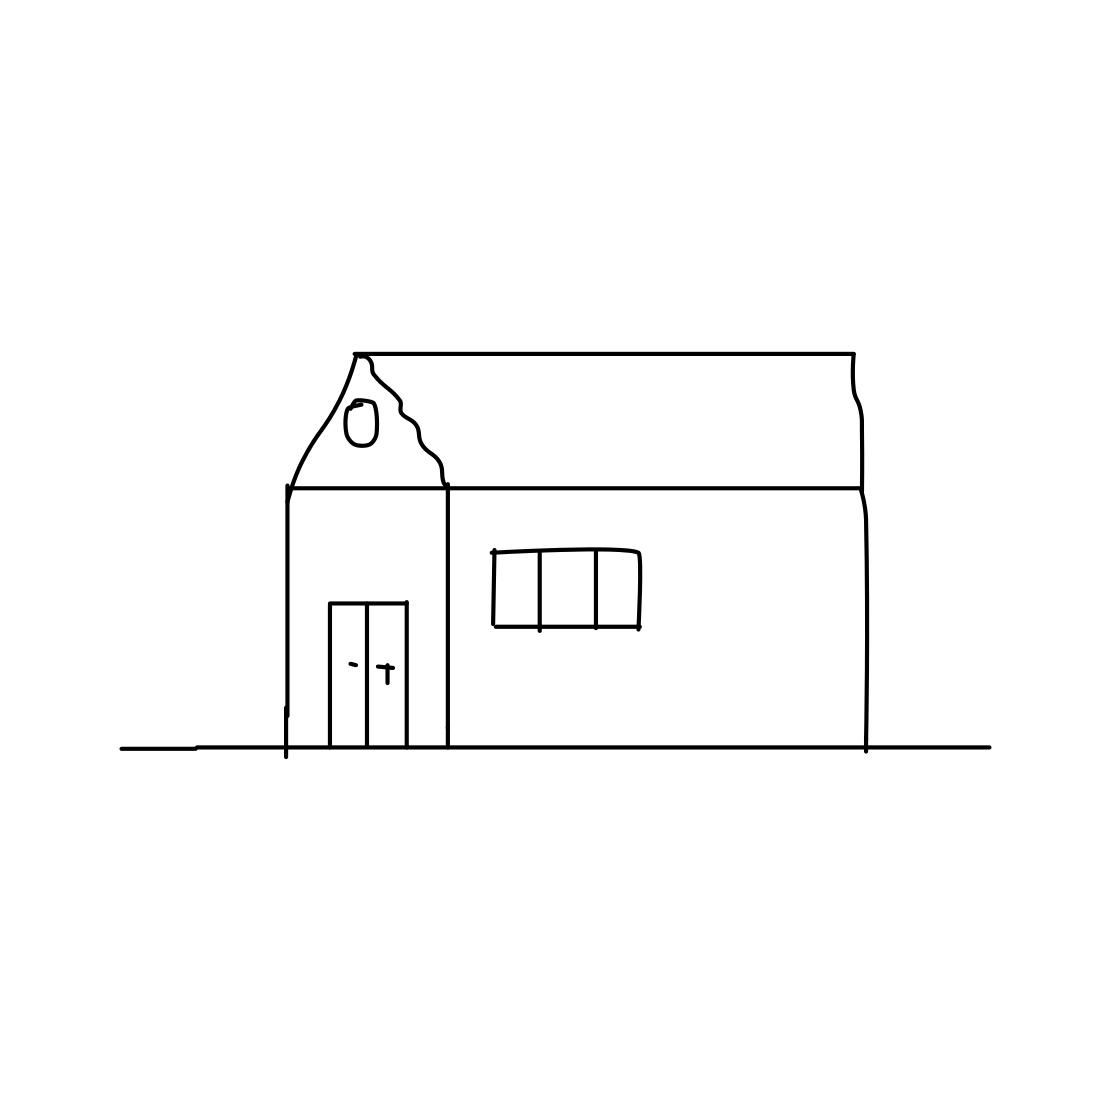House: (211, 280, 923, 779)
